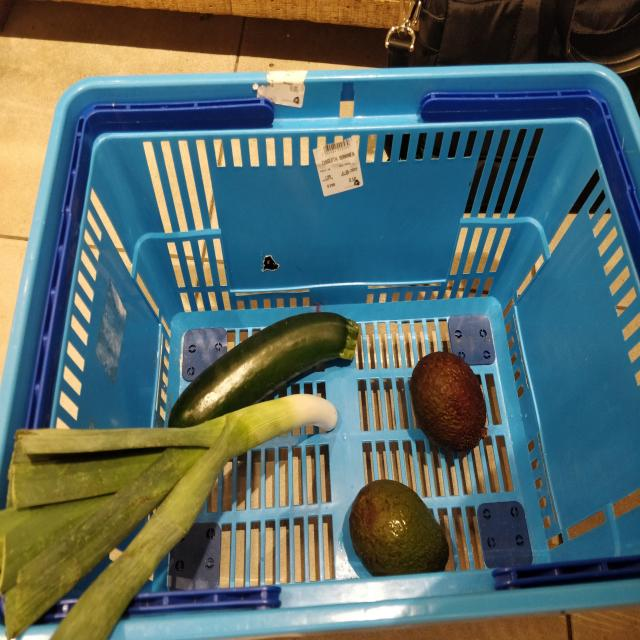Avocado: (342, 480, 452, 580), (410, 351, 487, 459)
